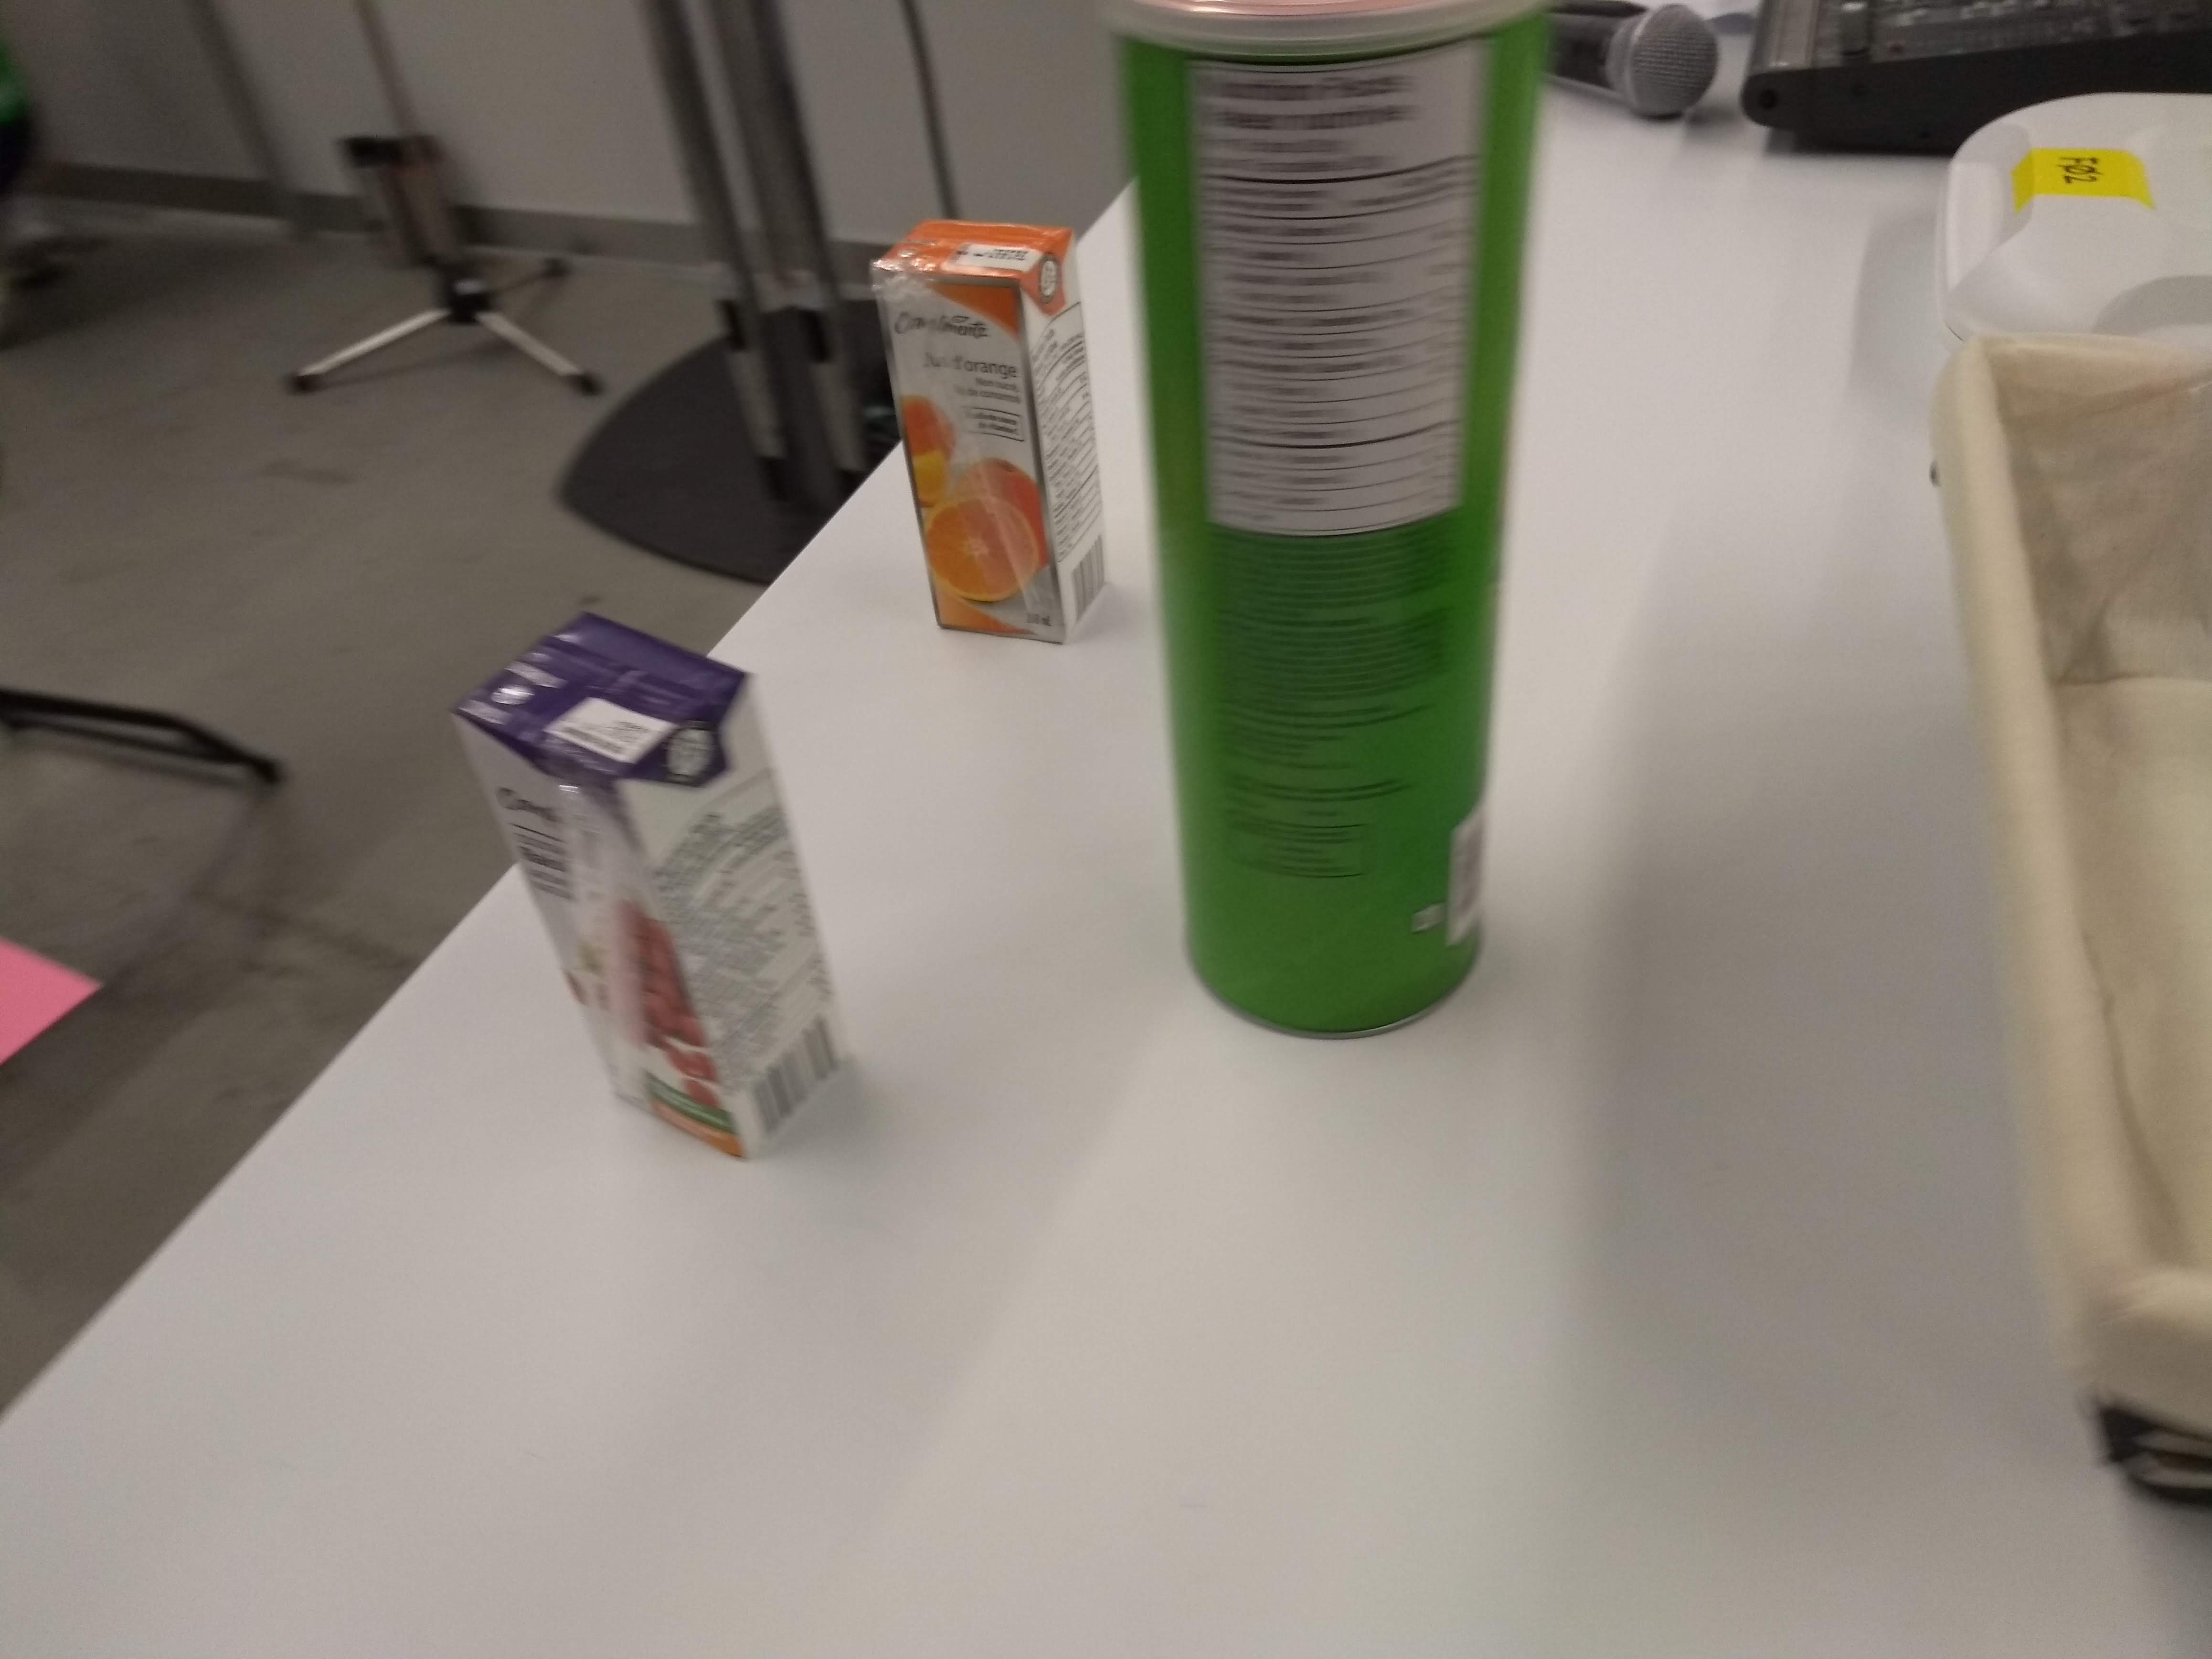grape_juice: (435, 599, 862, 1169)
orange_juice: (857, 207, 1120, 655)
pringles: (1092, 3, 1555, 1046)
